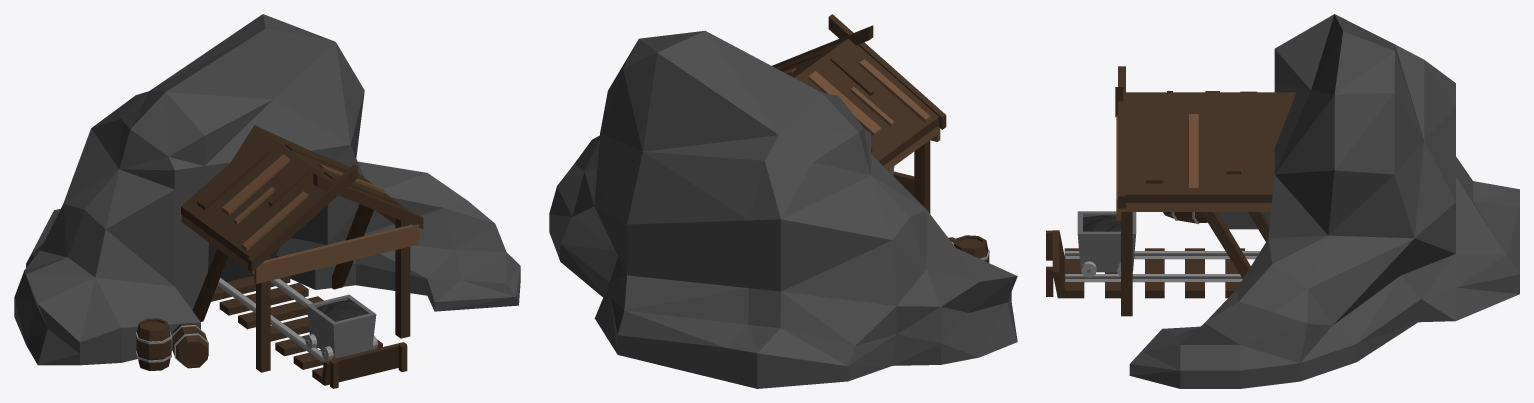
The model's file is mine_mat.fbx.
3 renders of one model, left to right at view 1: azimuth 30°, elevation 25°; view 2: azimuth 150°, elevation 25°; view 3: azimuth 270°, elevation 25°, orthographic. The views are drawn at different scales.
Parts seen in each view (by area): view 1: mine_mat; view 2: mine_mat; view 3: mine_mat.
Part boxes in pixels (x1=…): mine_mat: x1=14, y1=14, x2=520, y2=388; mine_mat: x1=549, y1=14, x2=1017, y2=388; mine_mat: x1=1046, y1=14, x2=1519, y2=388.
Bounding box in the file's own units: 588 × 320 × 508.
